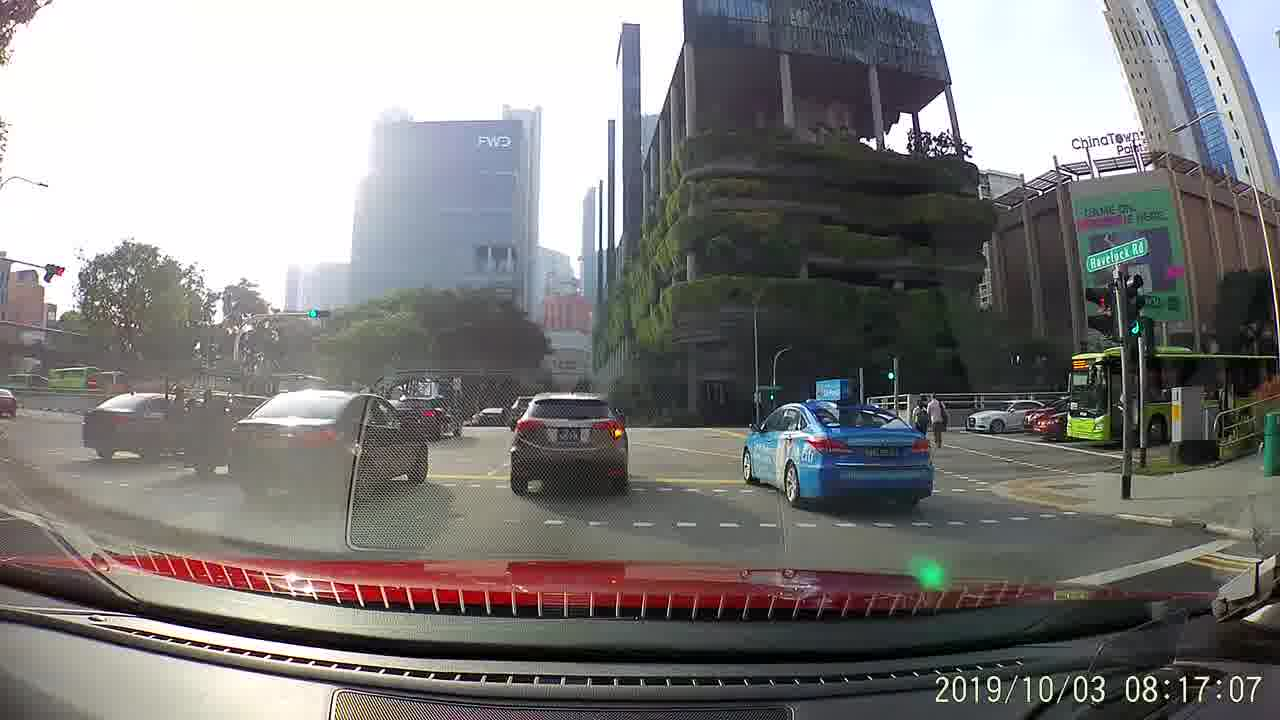bus: (1069, 347, 1277, 448)
car: (743, 376, 934, 513), (226, 385, 429, 502), (506, 389, 630, 495), (169, 392, 263, 474), (87, 387, 177, 460), (390, 393, 466, 440), (966, 397, 1043, 433), (1027, 395, 1071, 432), (508, 393, 534, 431), (471, 406, 509, 427)
